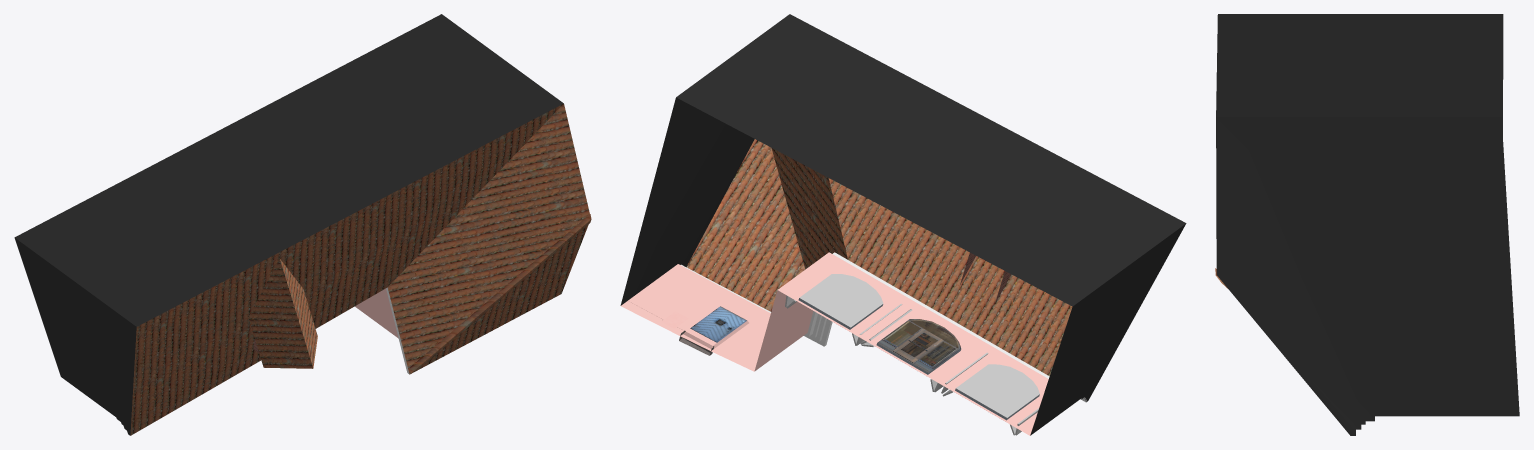
Rendered from Pikk_jalg_16.obj.
3 views of the same model, side by side, from view 1: azimuth 30°, elevation 25°; view 2: azimuth 150°, elevation 25°; view 3: azimuth 270°, elevation 25° (orthographic). The views are drawn at different scales.
Visible parts, largest first — view 1: Pikk_jalg_16; view 2: Pikk_jalg_16; view 3: Pikk_jalg_16.
Part boxes in pixels (x1,y1,x2,y2): Pikk_jalg_16: (14, 14, 591, 435); Pikk_jalg_16: (620, 14, 1186, 435); Pikk_jalg_16: (1215, 14, 1519, 435).
Size of the model in its own units: 17.67 by 10.15 by 8.28.
